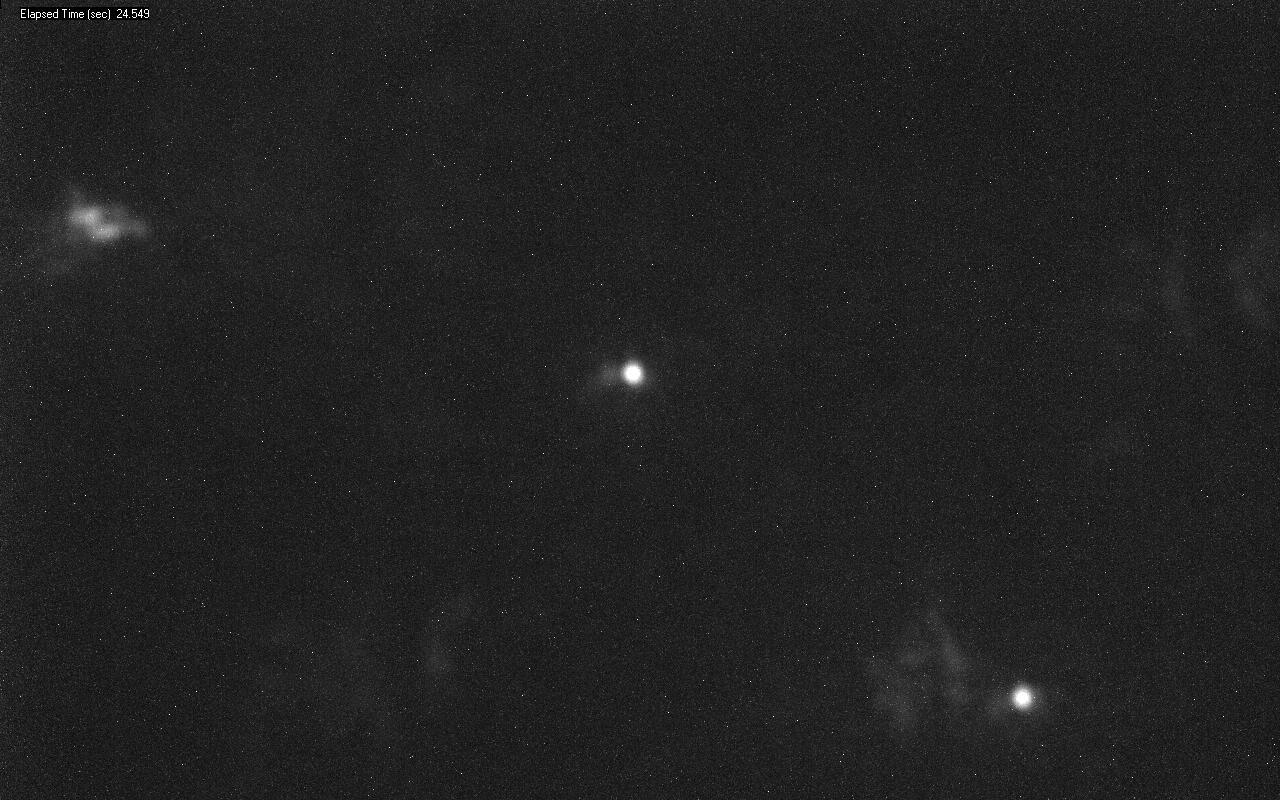Bead: (621, 362, 644, 385), (1011, 687, 1033, 709)
